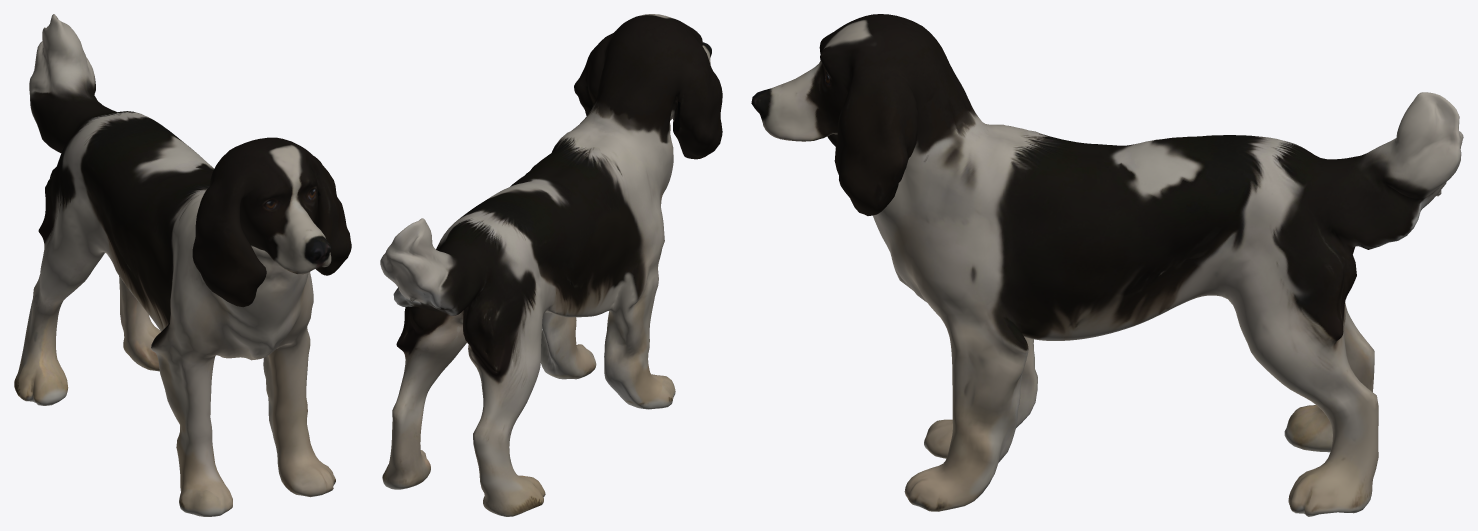
Rendered from Спаниэль.gltf.
3 views of the same model, side by side, from view 1: azimuth 30°, elevation 25°; view 2: azimuth 150°, elevation 25°; view 3: azimuth 270°, elevation 25° (orthographic). The views are drawn at different scales.
Visible parts, largest first — view 1: tripo_node_fde3939b; view 2: tripo_node_fde3939b; view 3: tripo_node_fde3939b.
Boxes of the visible parts, bbox=[...] form: tripo_node_fde3939b: bbox=[14, 14, 351, 516]; tripo_node_fde3939b: bbox=[380, 14, 722, 516]; tripo_node_fde3939b: bbox=[751, 14, 1463, 516].
Bounding box in the file's own units: 32.63 × 70.63 × 102.
1 material, 1 textured.
